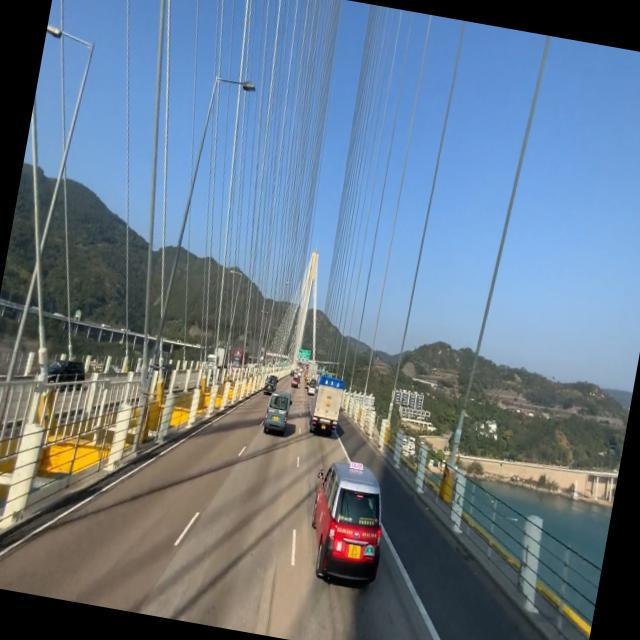Vehicle: (296, 448, 396, 594), (302, 371, 347, 443), (258, 384, 298, 438)
